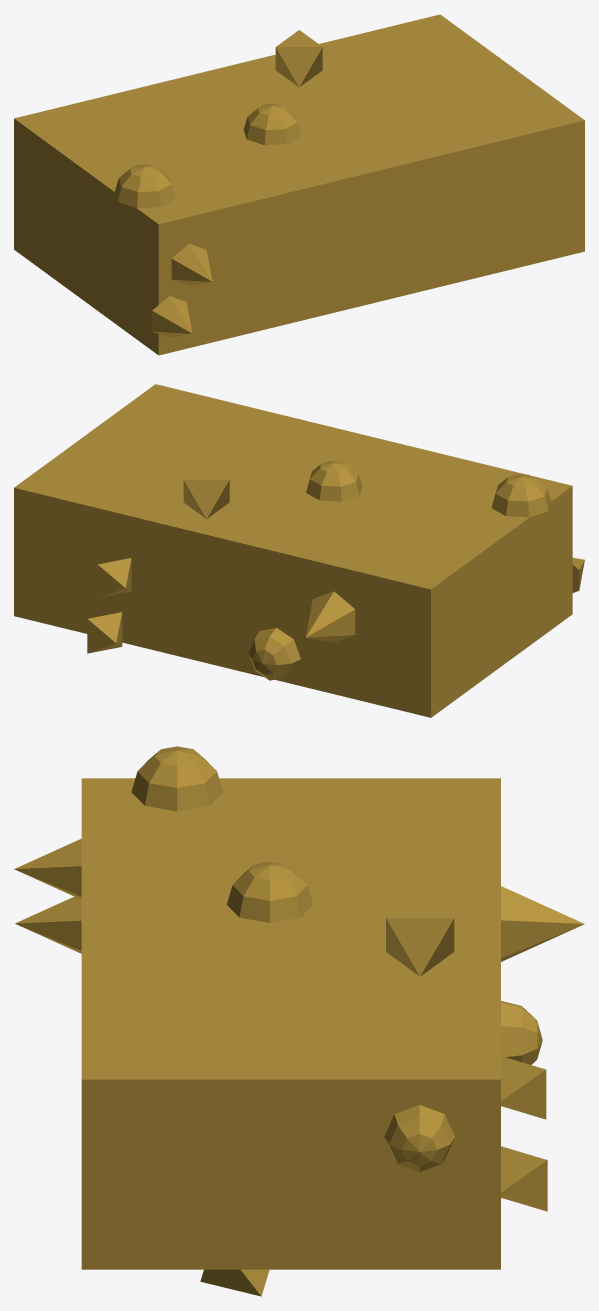
File: object01_medium.glb
3 renders of one model, top to bottom at view 1: azimuth 30°, elevation 25°; view 2: azimuth 150°, elevation 25°; view 3: azimuth 270°, elevation 25°, orthographic. The views are drawn at different scales.
Visible parts, largest first — view 1: object01_medium; view 2: object01_medium; view 3: object01_medium.
Boxes of the visible parts, bbox=[...] form: object01_medium: bbox=[14, 14, 584, 355]; object01_medium: bbox=[14, 384, 584, 717]; object01_medium: bbox=[14, 746, 584, 1296].
Size of the model in its own units: 3.63 by 1.54 by 2.72.
